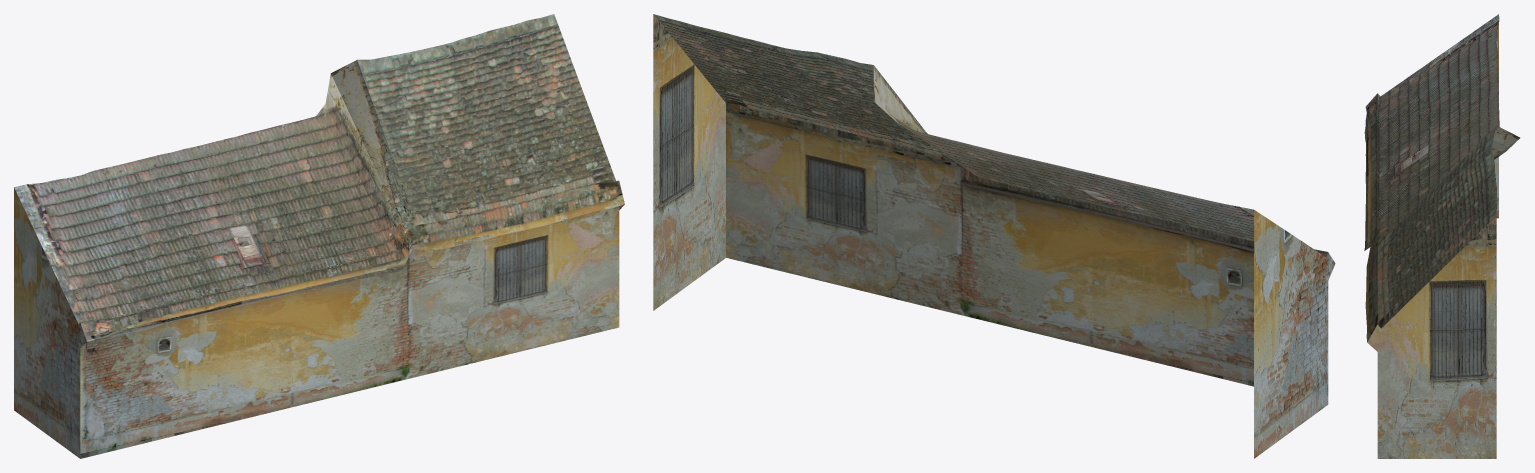
Rendered from yellow_house.glb.
3 renders of one model, left to right at view 1: azimuth 30°, elevation 25°; view 2: azimuth 150°, elevation 25°; view 3: azimuth 270°, elevation 25°, orthographic. The views are drawn at different scales.
Visible parts, largest first — view 1: yellow_house; view 2: yellow_house; view 3: yellow_house.
Boxes of the visible parts, x1,y1,x2,y2 form: yellow_house: (14,14,624,458); yellow_house: (653,14,1335,458); yellow_house: (1364,14,1520,458).
Size of the model in its own units: 11.81 by 5.62 by 3.24.
Materials: 1 (1 with a texture image).
